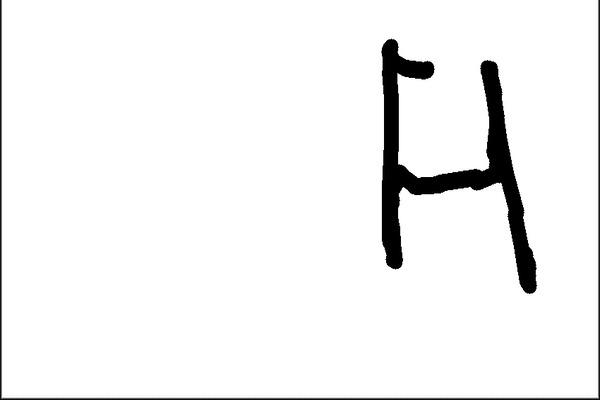H: (373, 31, 540, 303)
